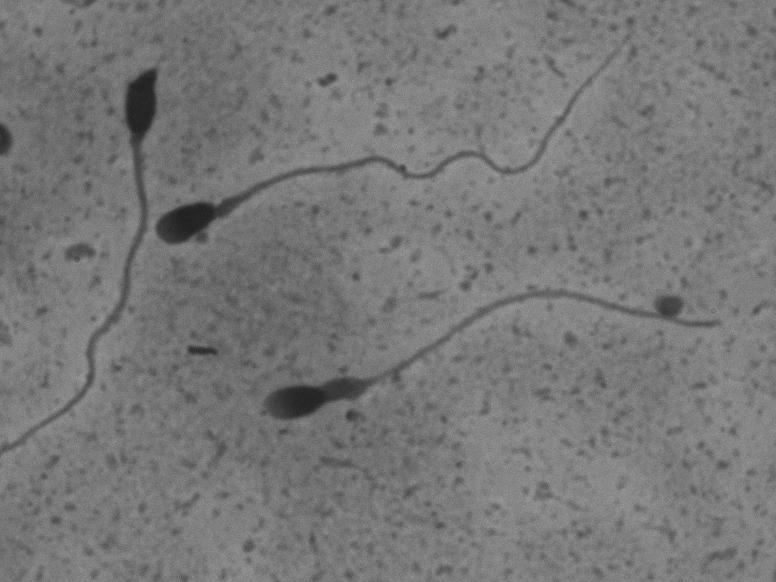Abnormal: (150, 26, 639, 272), (220, 276, 719, 440), (1, 52, 176, 457)
